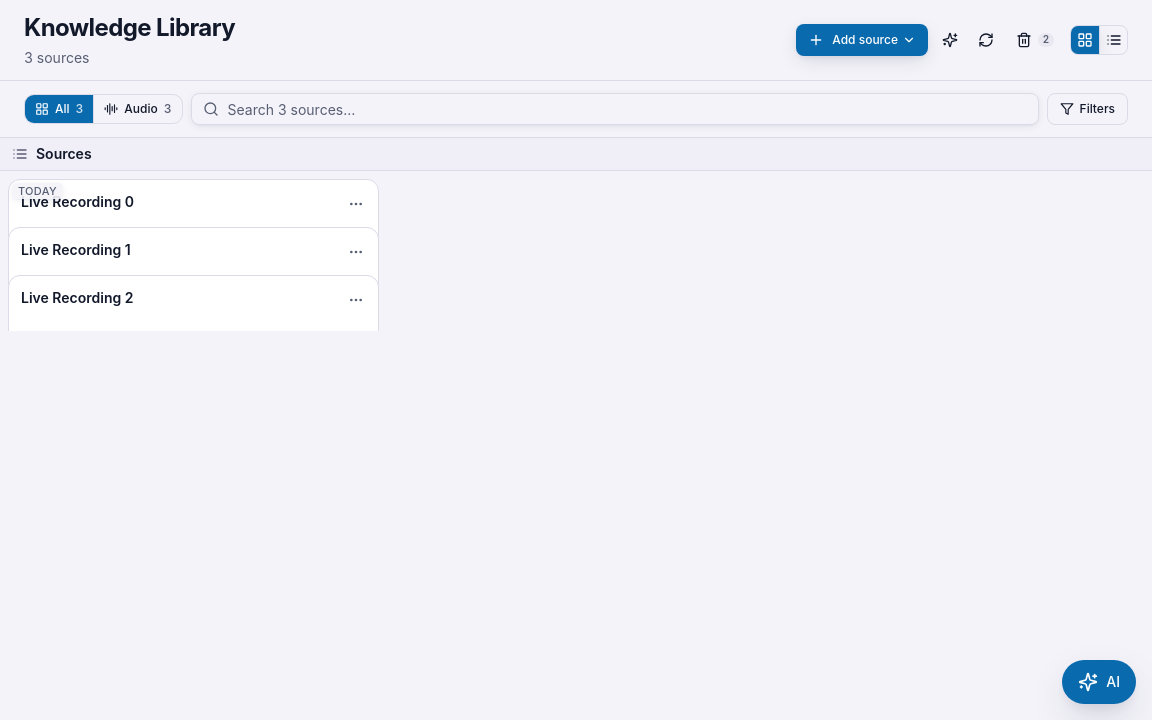
Test: Confirm-dialog copy matches §D2 exactly › soft delete: title/action "Move to Trash", description names the file + restore path
Step 1. Press Enter in the button named "Card actions" in the row of "Live Recording 0", box x1=342 y1=190 x2=370 y2=218
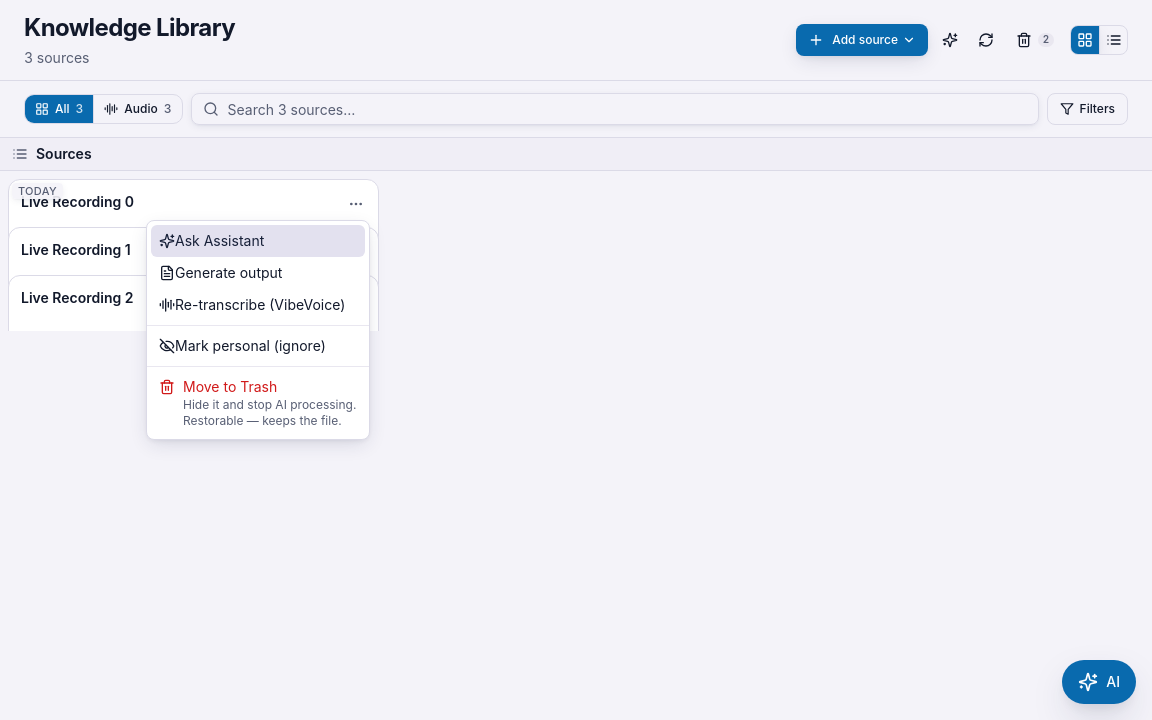
Step 2. Click the menu item "Move to Trash" → [258, 403], box x1=151 y1=371 x2=365 y2=435
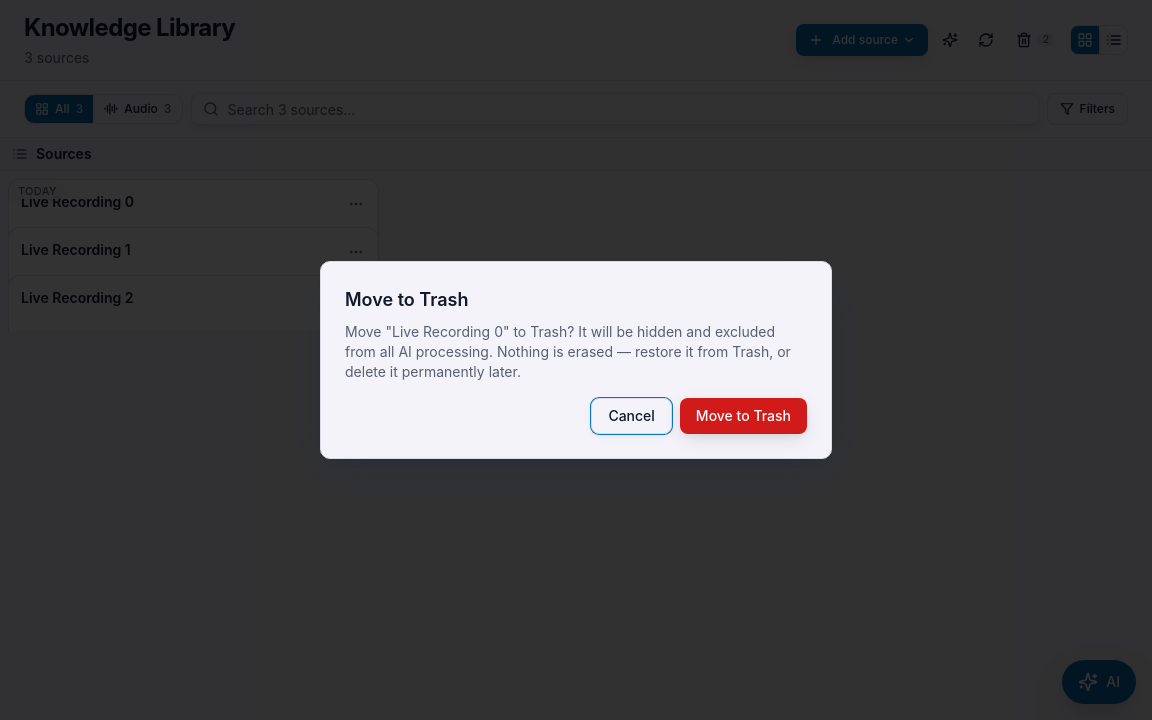
Check: the text "restore it from trash, or delete it permanently later" is shown, box x1=345 y1=323 x2=791 y2=380
Check: the button "Move to Trash" is shown, box x1=680 y1=398 x2=807 y2=434
